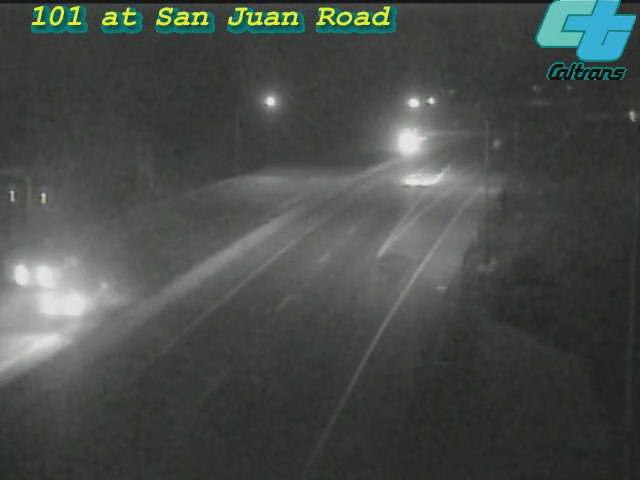vehicle: (19, 267, 99, 347), (372, 141, 452, 221), (1, 234, 76, 314), (382, 116, 432, 166)
